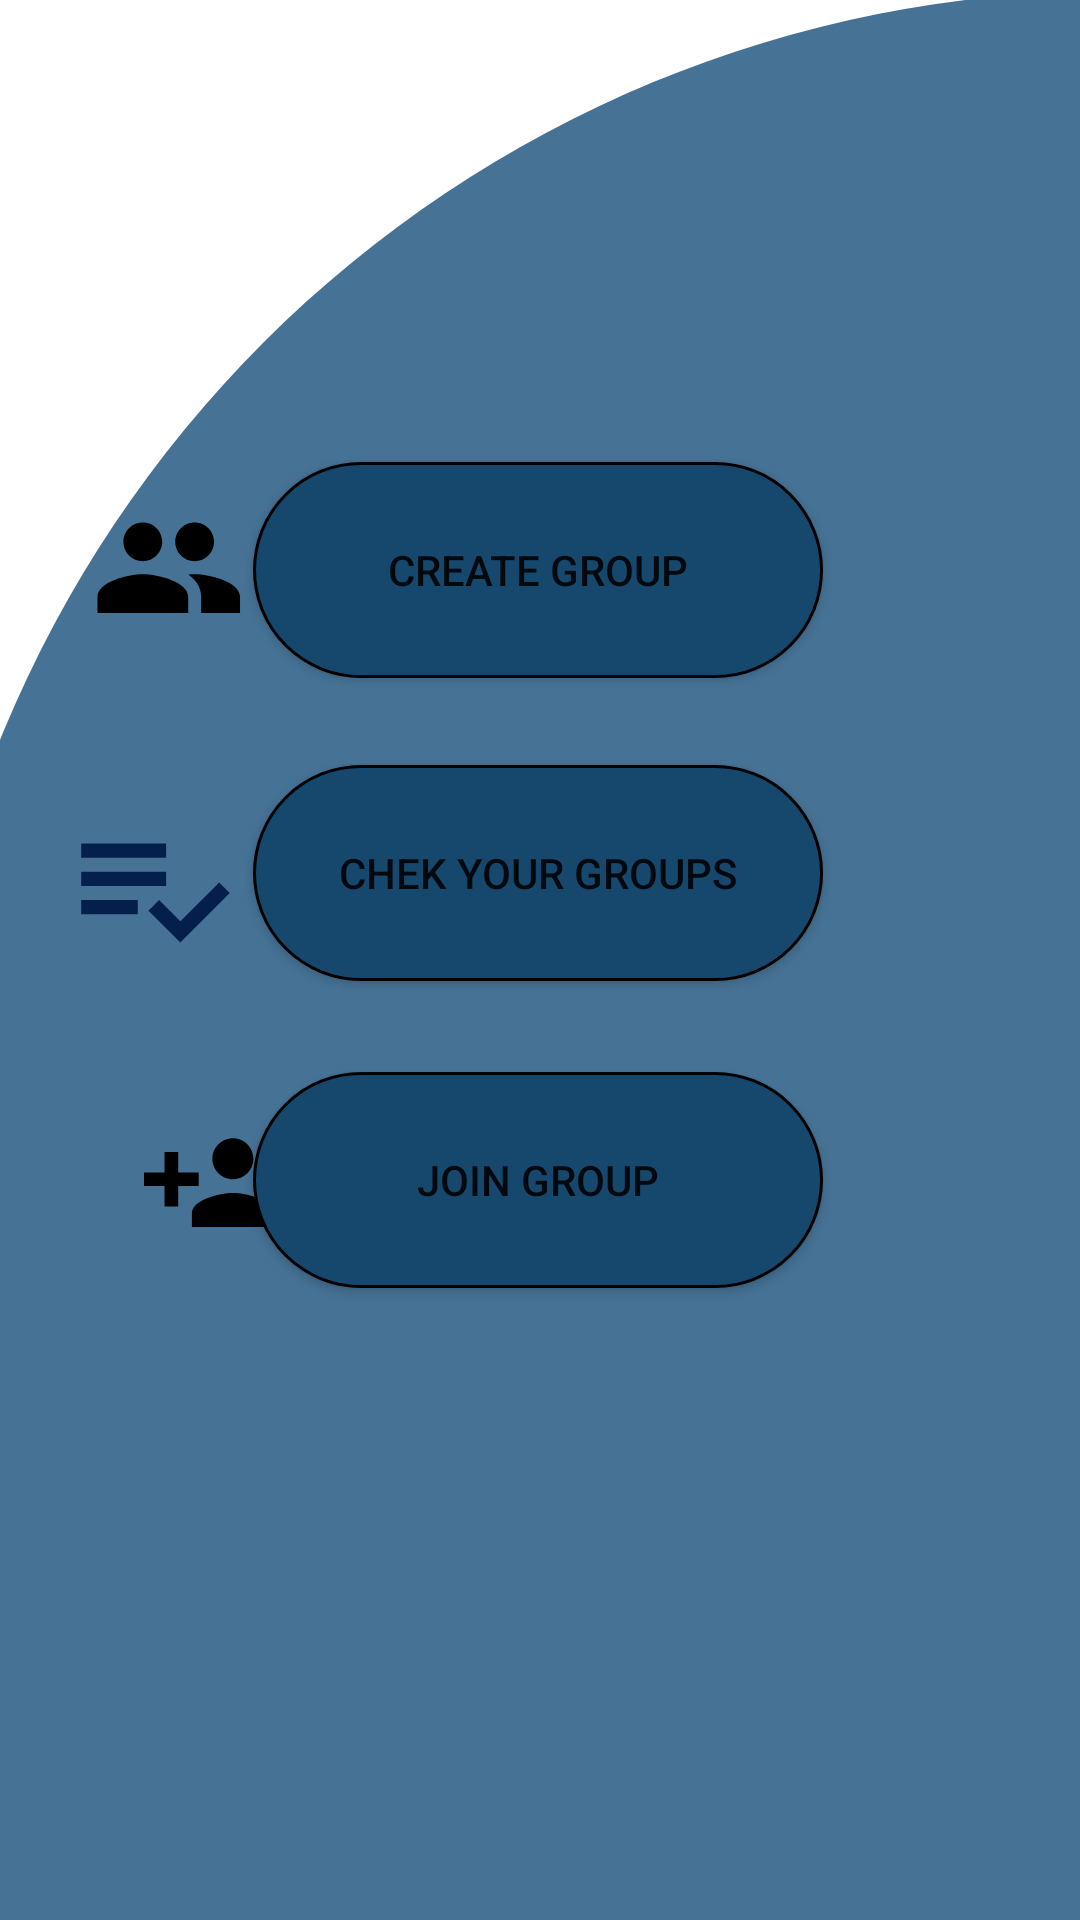

Locate icon controls on the screen. Image size 1080*1920, boxes as (x1, y1, x2, y2).
add check: (81, 843, 230, 942)
